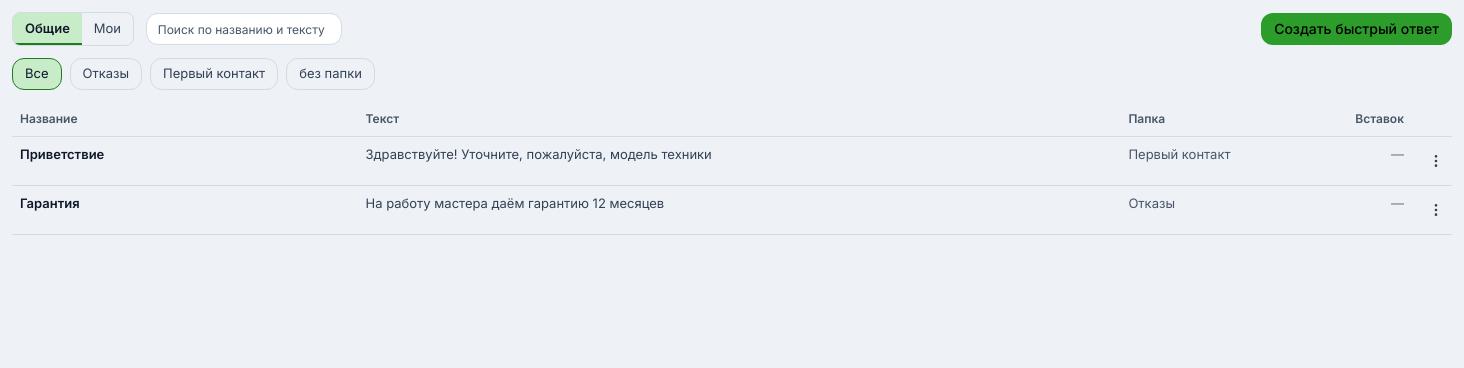
Быстрые ответы — фильтры и пустое состояние › поиск переход между вкладками переживает: он виден в своей строке
This screenshot has width=1464, height=368.
Expected: the table is shown, [12, 102, 1452, 235]
Step 1. Type "ответ" into the field named "Поиск по быстрым ответам" → (244,29), box [146, 13, 342, 45]
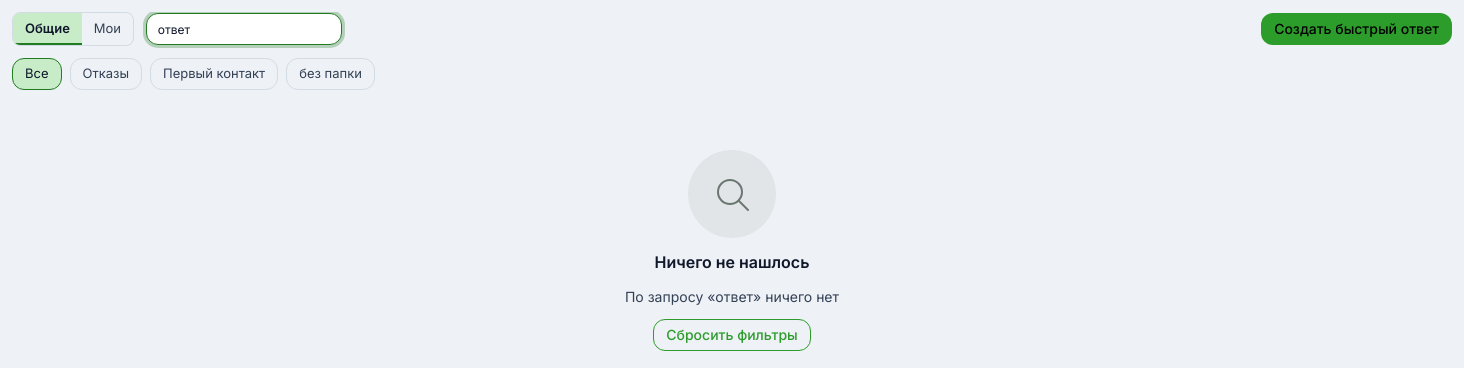
Step 2. Click the tab "Мои" → (107,29), box [82, 13, 133, 45]
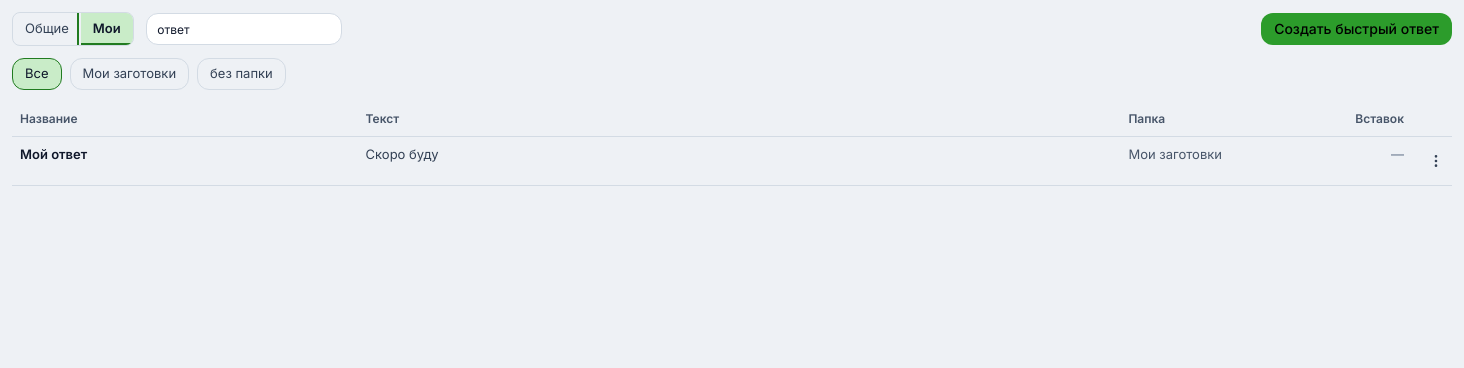
Expected: the text "Мой ответ" is shown, [12, 136, 358, 186]
